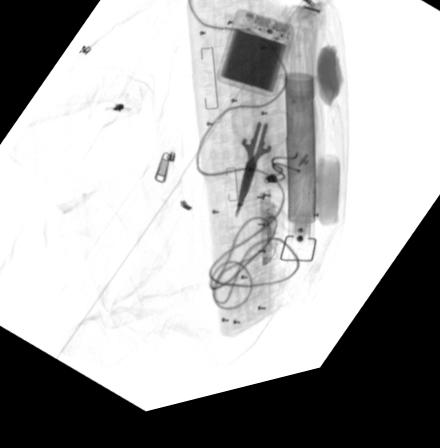Powerbank: (215, 22, 295, 110)
Scissors: (232, 111, 294, 230)
